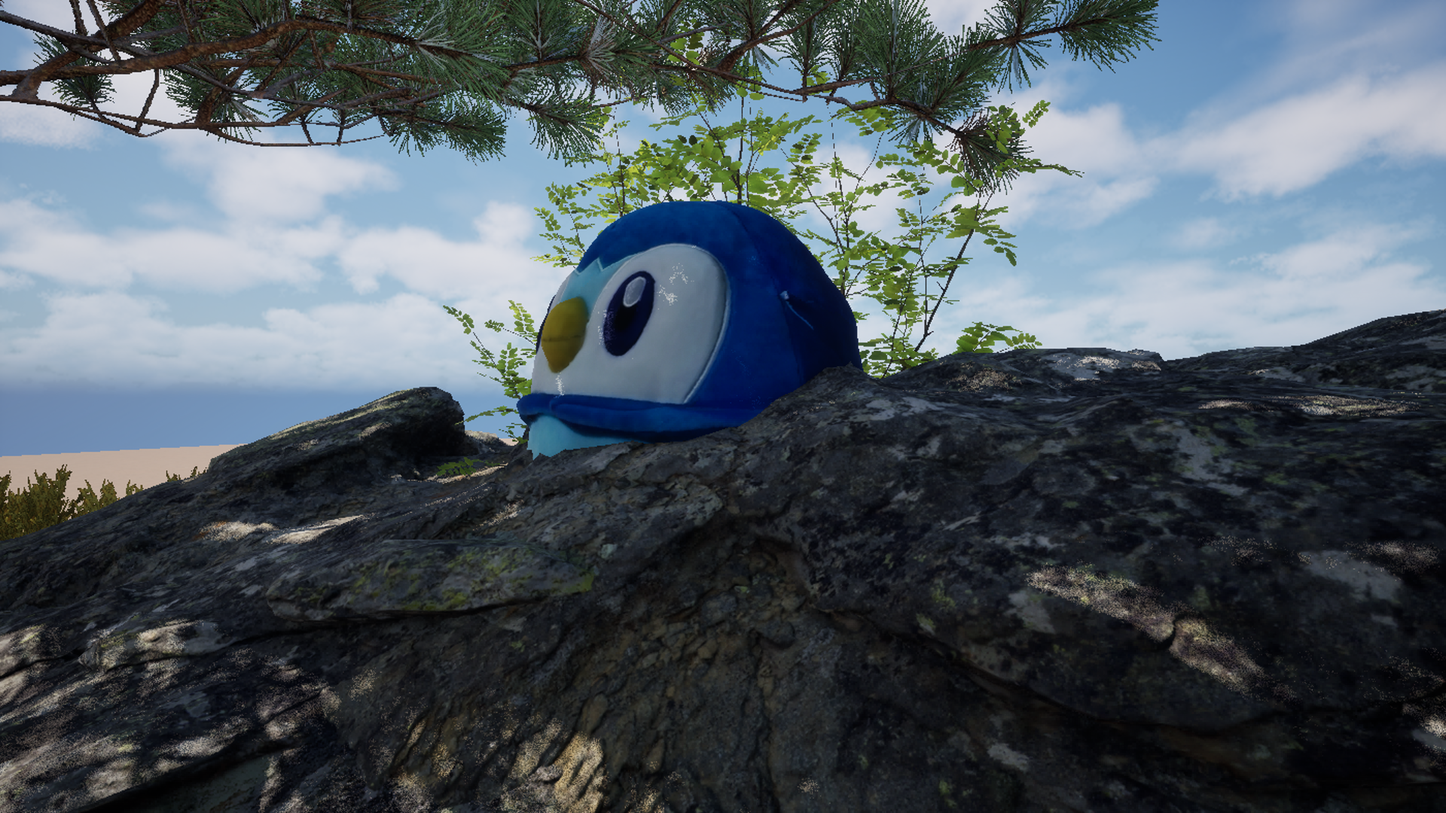Piplup: (264, 30, 1066, 783)
